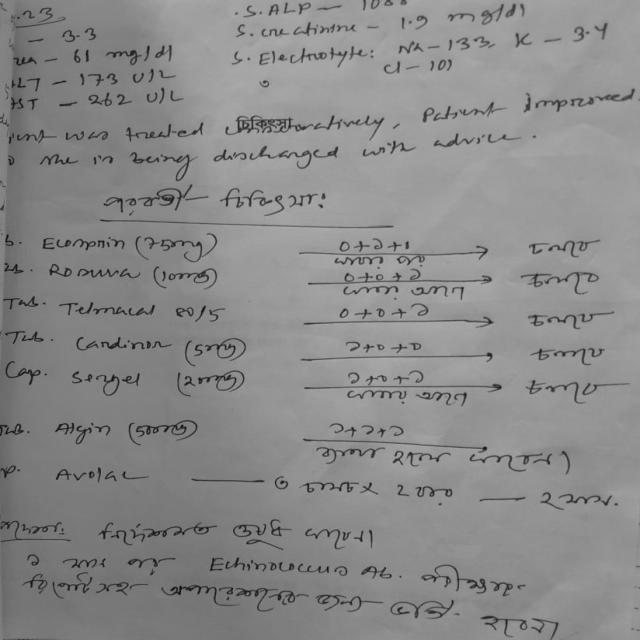medicine: (71, 329, 178, 359), (31, 228, 136, 254), (56, 298, 167, 322), (46, 461, 146, 486), (61, 366, 145, 394), (40, 264, 144, 284), (48, 418, 120, 440)
